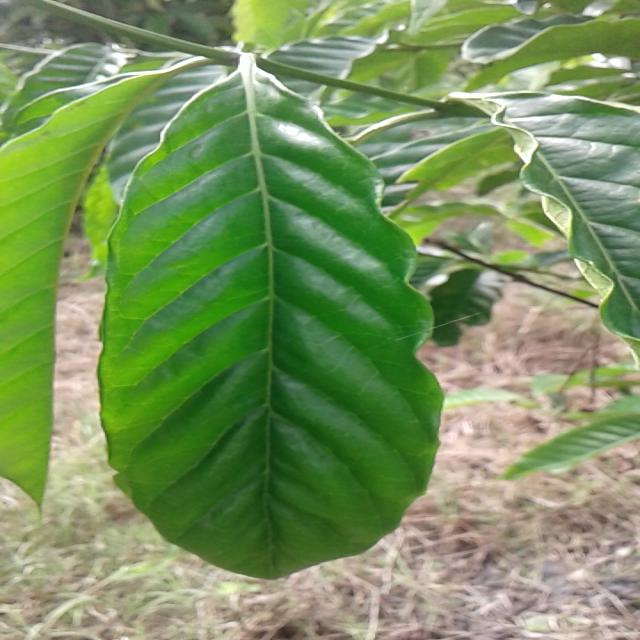Sanas: (75, 54, 445, 583)
